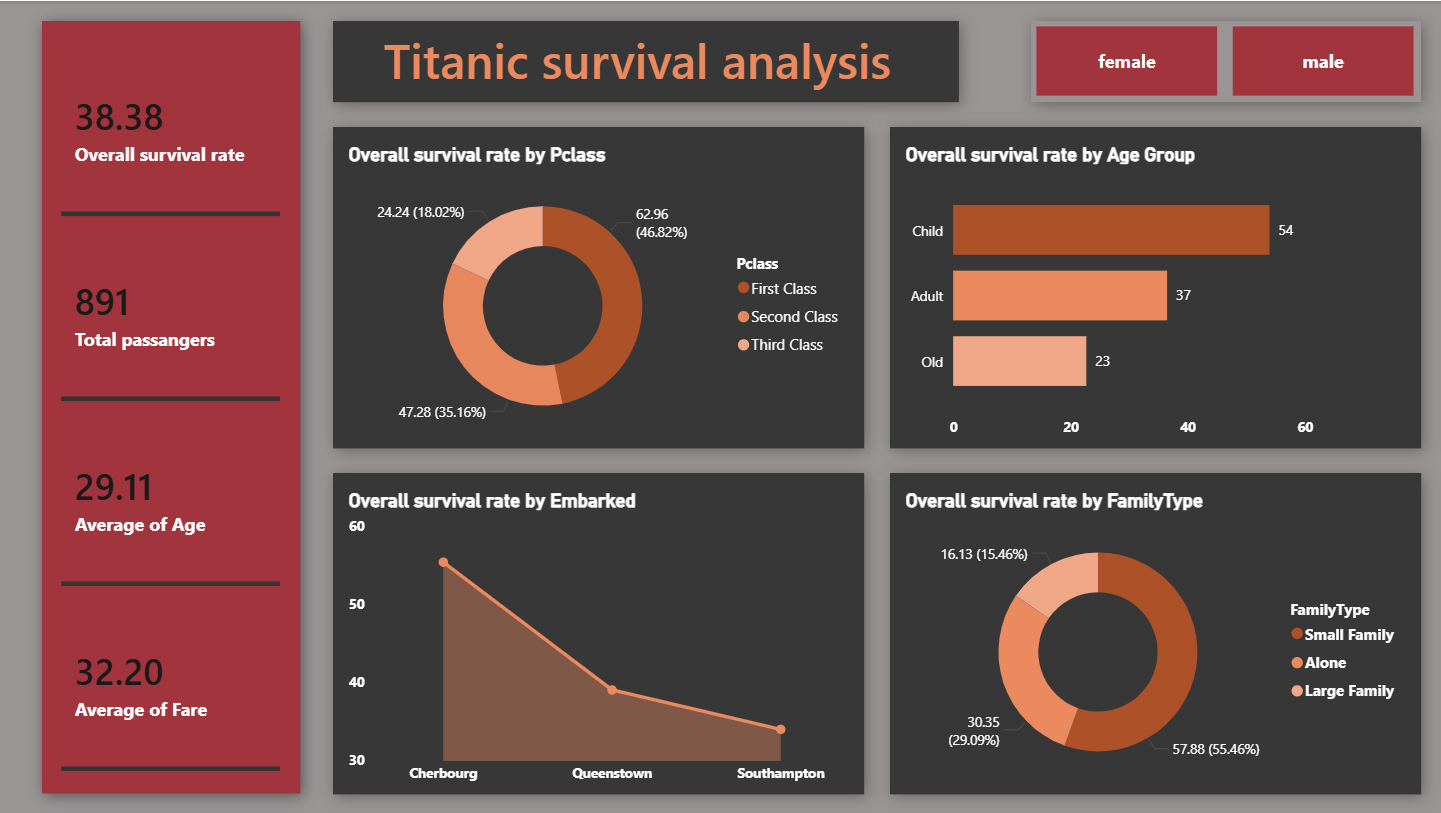

The page's visual inventory and layout, read from the dashboard file:
{"tool":"powerbi","page":{"name":"Page 1","canvas":[1280,720],"ordinal":0},"visuals":[{"type":"donutChart","fields":{"Category":["train.Pclass"],"Y":["train.Overall survival rate"]},"box":[296.2,111.7,470.8,284.6],"z":0},{"type":"areaChart","fields":{"Y":["train.Overall survival rate"],"Category":["train.Embarked"]},"box":[296.2,418.5,470.8,284.6],"z":1000},{"type":"donutChart","fields":{"Category":["train.FamilyType"],"Y":["train.Overall survival rate"]},"box":[790,418.5,470.8,284.6],"z":2000},{"type":"clusteredBarChart","fields":{"Category":["train.Age Group"],"Y":["train.Overall survival rate"]},"box":[790,111.7,470.8,284.6],"z":3000},{"type":"cardVisual","fields":{"Data":["train.Overall survival rate","train.Total passangers","Avg(train.Age)","Avg(train.Fare)"]},"box":[38.1,17.7,228.8,685.4],"z":4000},{"type":"textbox","box":[296.2,17.7,555.1,71.8],"z":5000},{"type":"advancedSlicerVisual","fields":{"Values":["train.Sex"]},"box":[915.1,17.7,345.8,71.8],"z":6000}]}

Visuals, with their boxes in screenshot pixels (x1, y1, x2, y2), scaled from the page's 1280x720 canvas onto the 1441x813 screenshot:
donutChart - train.Pclass x train.Overall survival rate: (x1=333, y1=126, x2=863, y2=447)
areaChart - train.Overall survival rate x train.Embarked: (x1=333, y1=473, x2=863, y2=794)
donutChart - train.FamilyType x train.Overall survival rate: (x1=889, y1=473, x2=1419, y2=794)
clusteredBarChart - train.Age Group x train.Overall survival rate: (x1=889, y1=126, x2=1419, y2=447)
cardVisual - train.Overall survival rate x train.Total passangers: (x1=43, y1=20, x2=300, y2=794)
textbox: (x1=333, y1=20, x2=958, y2=101)
advancedSlicerVisual - train.Sex: (x1=1030, y1=20, x2=1419, y2=101)
